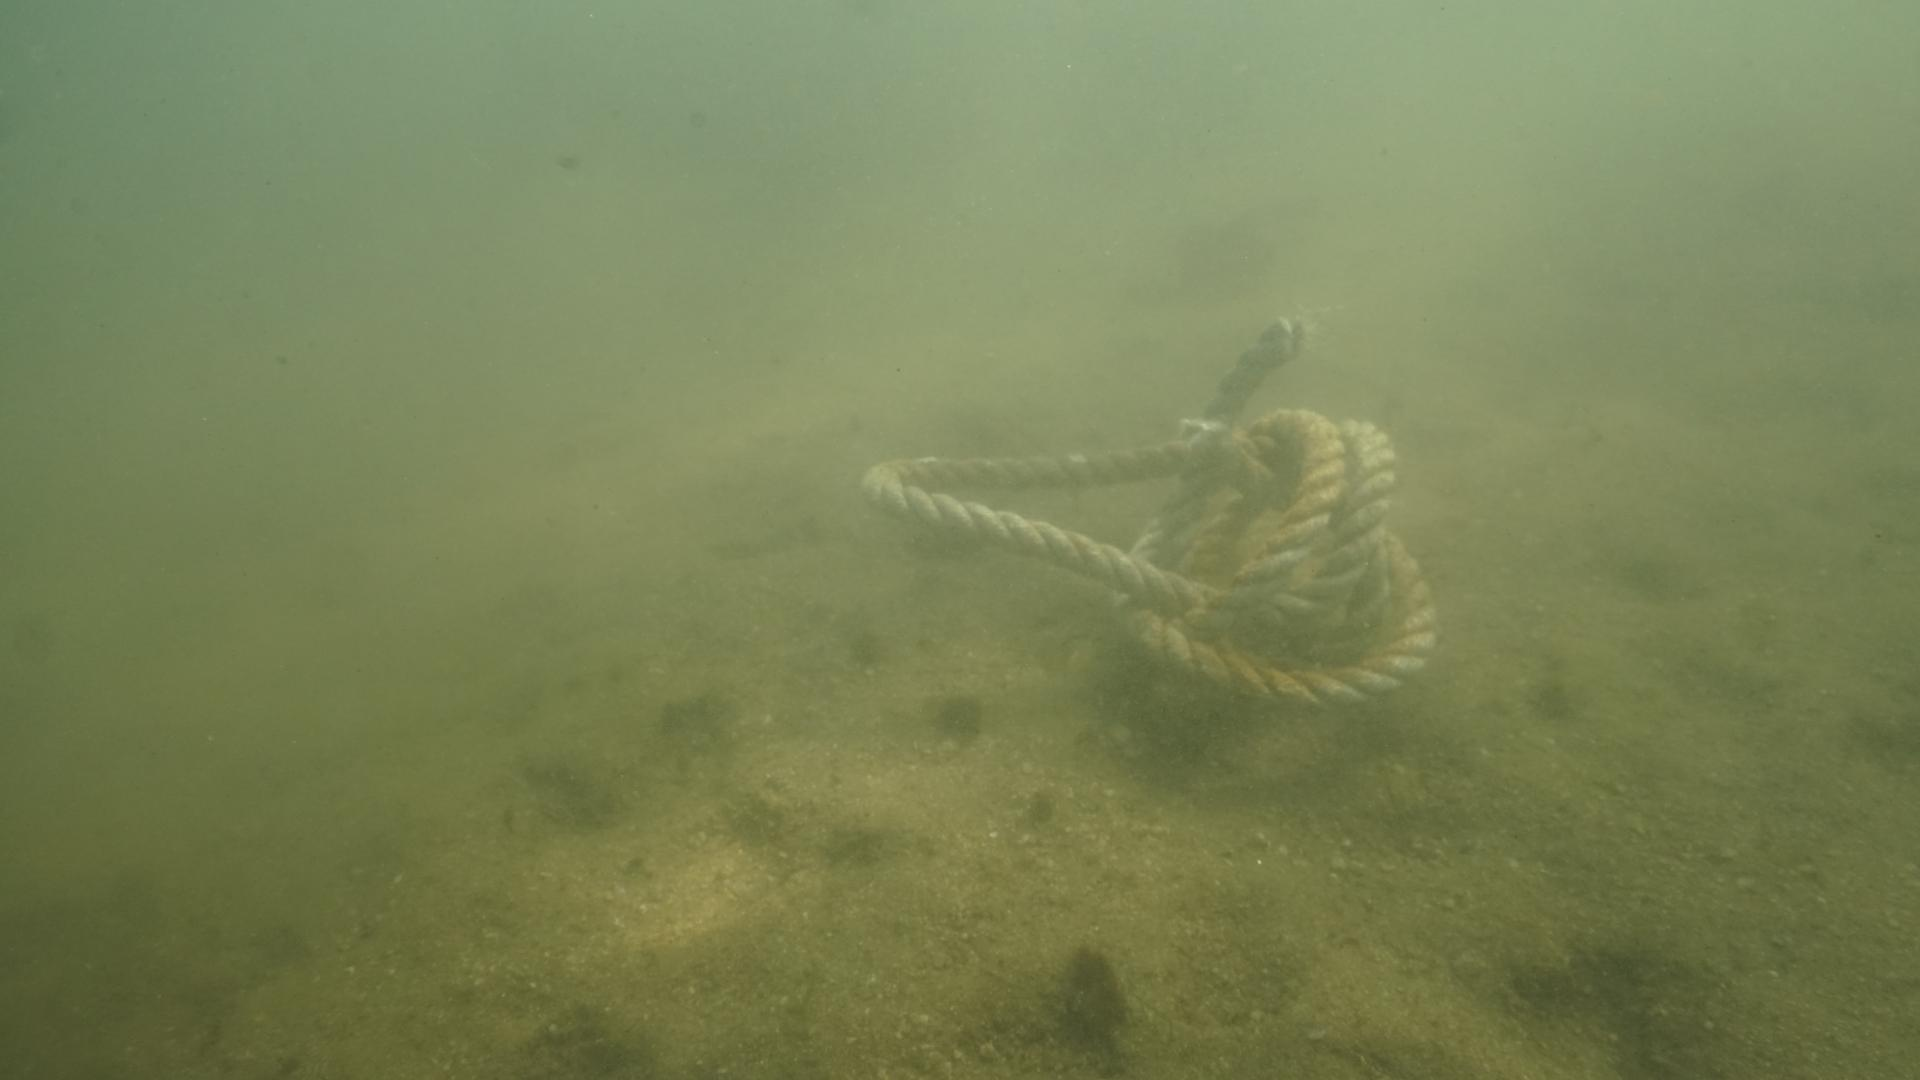bundle of ropes: (857, 309, 1445, 713)
